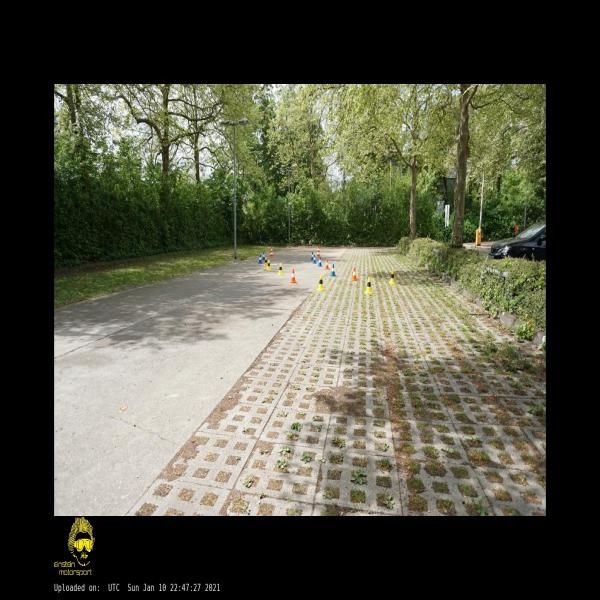blue_cone: (331, 264, 336, 276), (258, 254, 263, 264), (312, 254, 316, 264), (318, 257, 322, 266), (262, 252, 265, 260), (311, 252, 313, 260)
large_orange_cone: (270, 245, 274, 258), (317, 246, 320, 257)
orange_cone: (289, 269, 297, 283), (352, 268, 358, 280), (325, 260, 330, 270)
yellow_cone: (366, 276, 372, 294), (318, 275, 324, 291), (389, 270, 395, 284), (278, 263, 283, 275), (267, 260, 271, 270), (264, 257, 267, 266)
